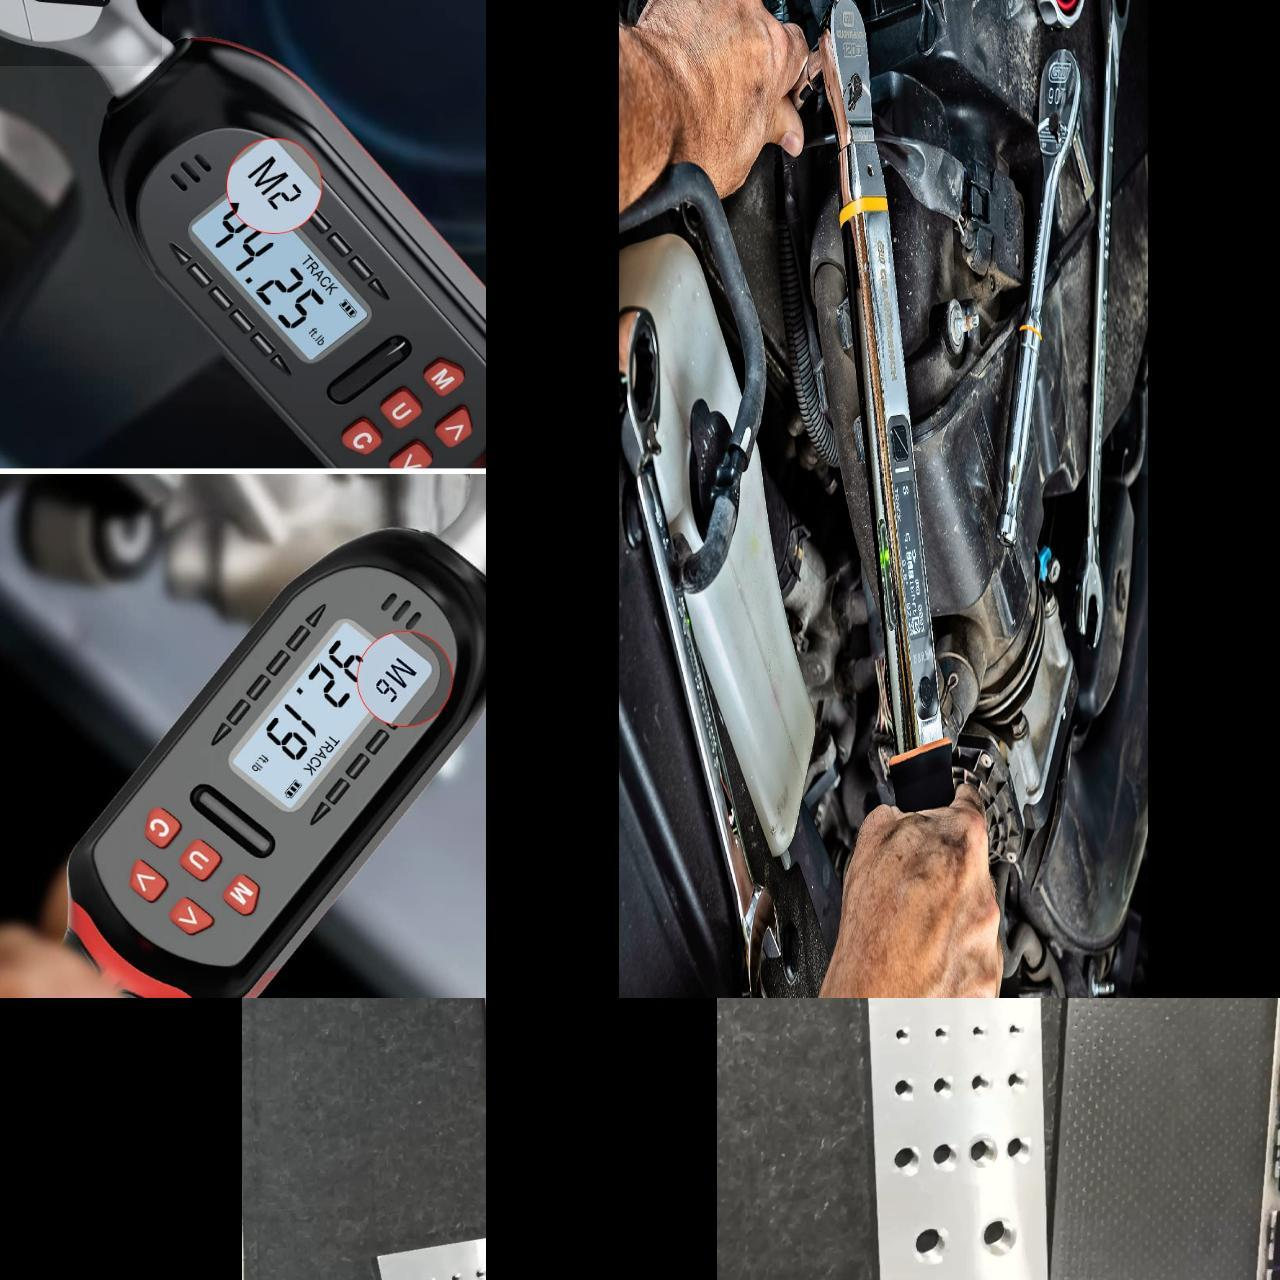Tool: (821, 0, 870, 134)
